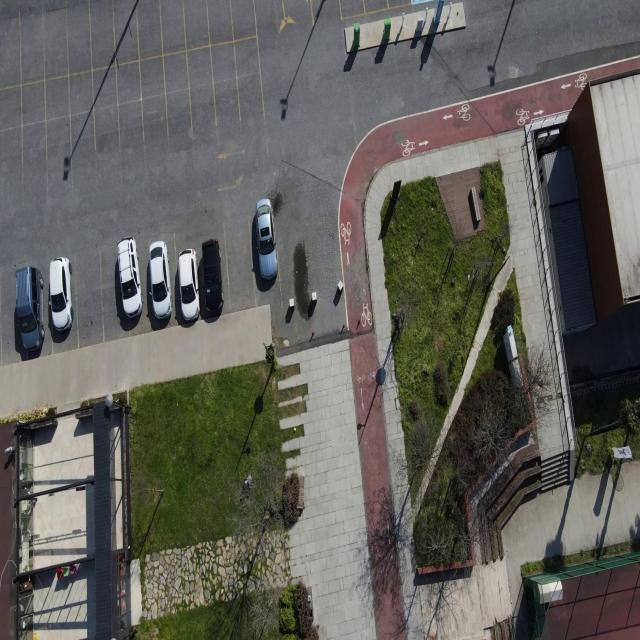p3rson: (244, 475, 252, 489)
